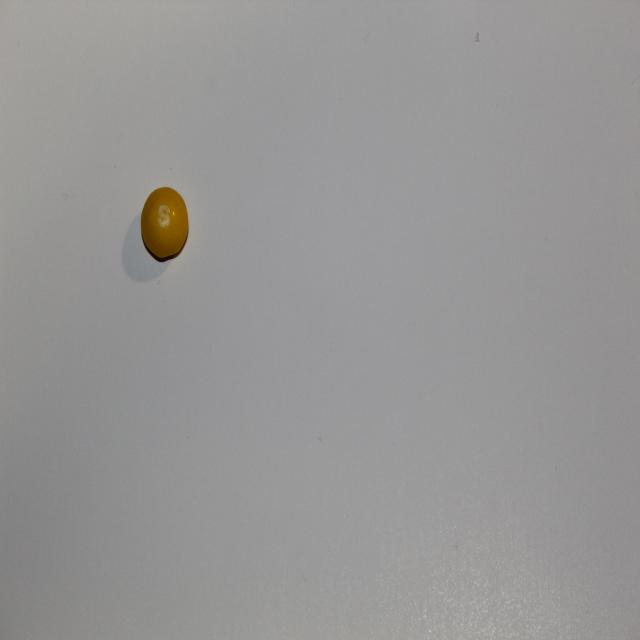smartie: (140, 186, 188, 258)
